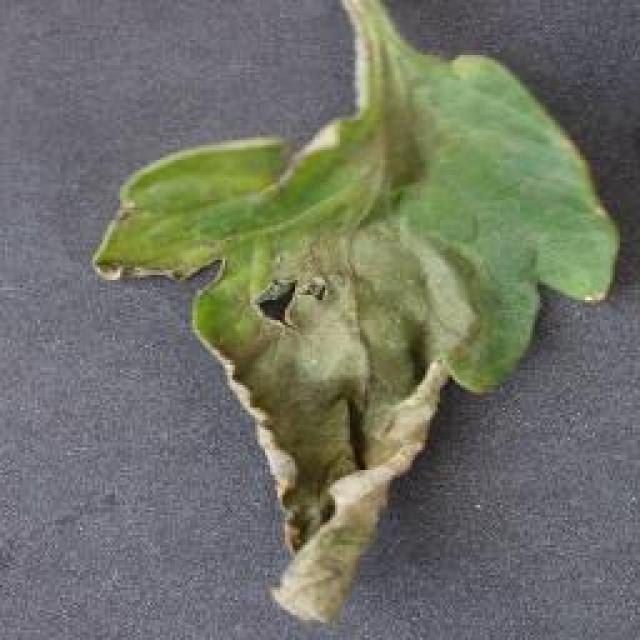Tomato___Late_blight: (92, 0, 615, 620)
